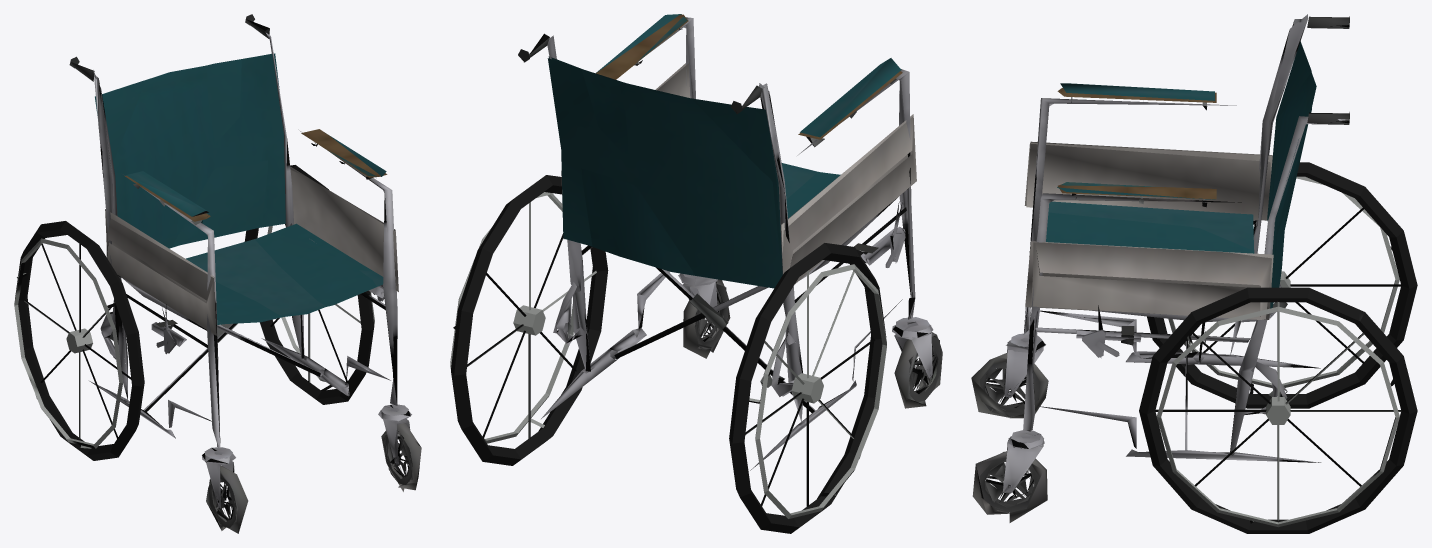
Rendered from Wheelchair.fbx.
The picture shows the model from 3 angles, left to right: view 1: azimuth 30°, elevation 25°; view 2: azimuth 150°, elevation 25°; view 3: azimuth 270°, elevation 25°; orthographic projection. The views are drawn at different scales.
Parts seen in each view (by area): view 1: инвалидная коляска; view 2: инвалидная коляска; view 3: инвалидная коляска.
Boxes of the visible parts, x1,y1,x2,y2 form: инвалидная коляска: (14,14,421,533); инвалидная коляска: (450,14,942,533); инвалидная коляска: (971,14,1417,533).
Bounding box in the file's own units: 0.8061 × 1.11 × 1.09.
Materials: 1 (1 with a texture image).
